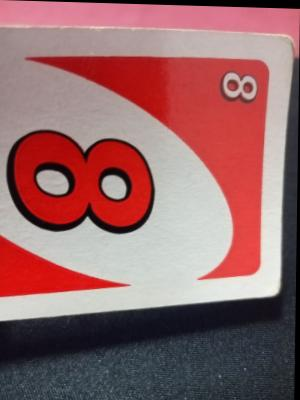num_8: (213, 61, 265, 106)
